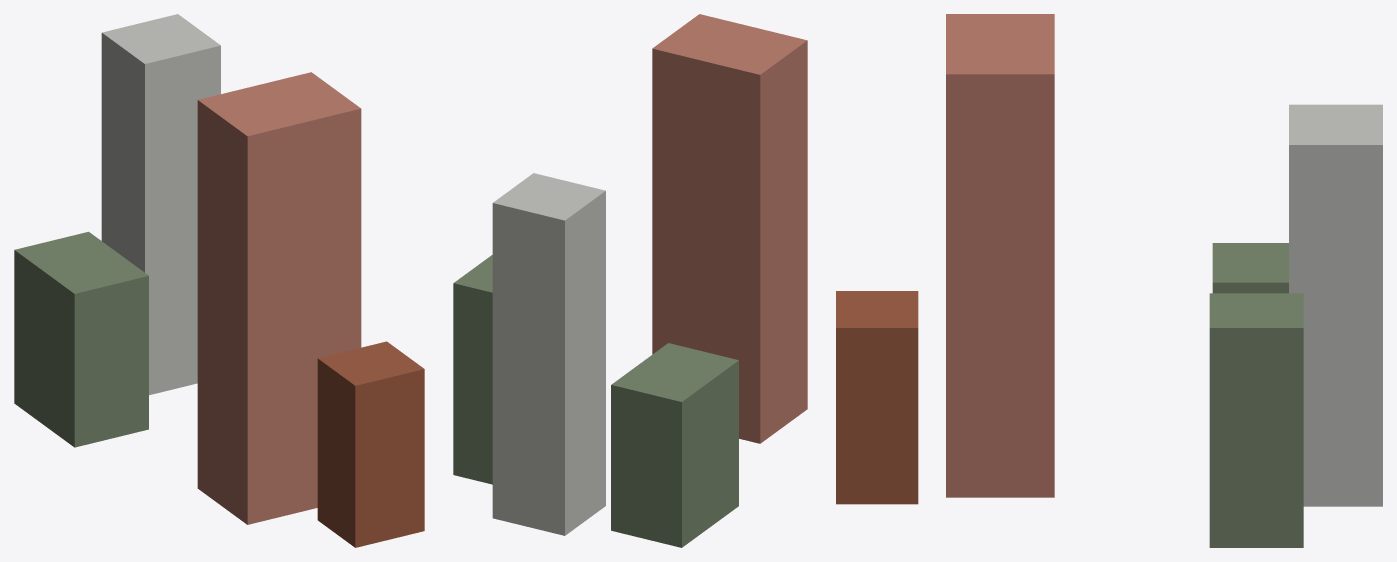
File: synth-00-07.lod2.glb
3 renders of one model, left to right at view 1: azimuth 30°, elevation 25°; view 2: azimuth 150°, elevation 25°; view 3: azimuth 270°, elevation 25°, orthographic. The views are drawn at different scales.
Parts seen in each view (by area): view 1: synth-00-07; view 2: synth-00-07; view 3: synth-00-07.
Boxes of the visible parts, bbox=[...] form: synth-00-07: bbox=[14, 14, 424, 547]; synth-00-07: bbox=[453, 14, 807, 547]; synth-00-07: bbox=[836, 14, 1382, 547].
Size of the model in its own units: 42.91 by 61.5 by 72.02.
